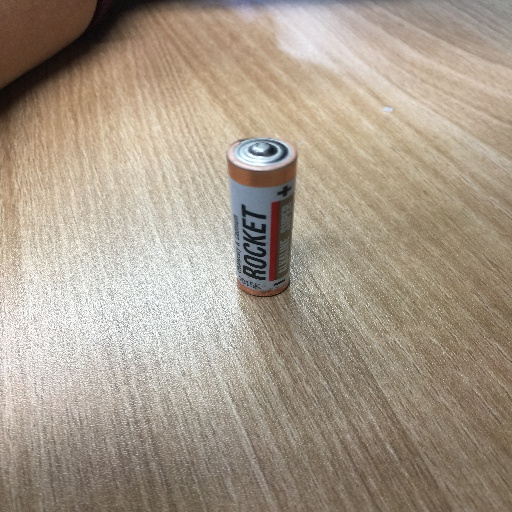Battery_0: (219, 119, 307, 313)
